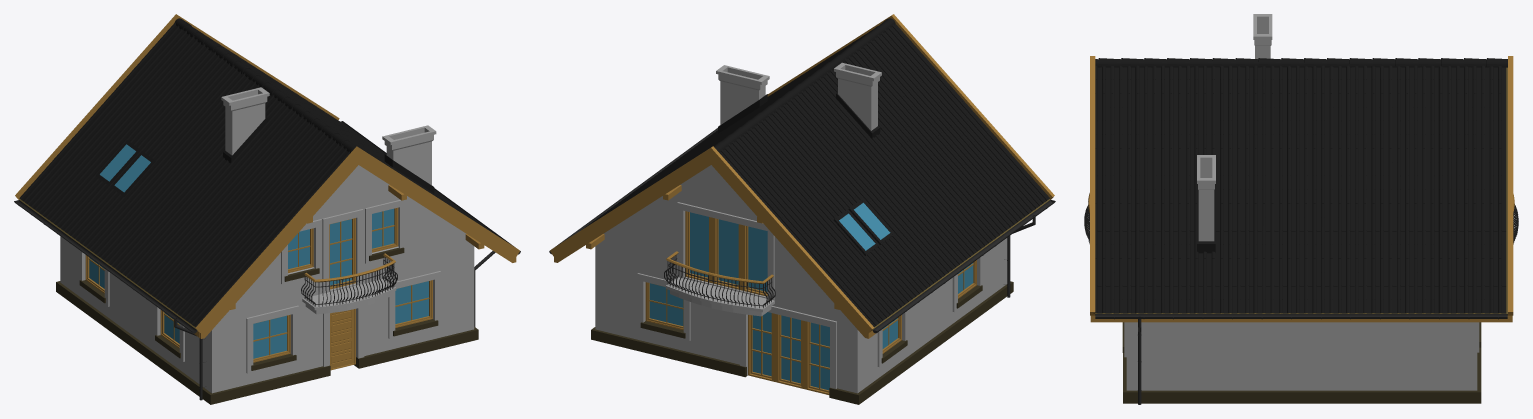
Rendered from Cyprys_House.obj.
3 renders of one model, left to right at view 1: azimuth 30°, elevation 25°; view 2: azimuth 150°, elevation 25°; view 3: azimuth 270°, elevation 25°, orthographic. The views are drawn at different scales.
Visible parts, largest first — view 1: roof_roof_metal_dark_brown, walls_walls_plaster_light_brown, boards_boards_wood_brown, cover_window_cover_window_plaster_sand, windows_windows_glass_window, foundation_foundation_foundation_brown_brick, chimneys_chimneys_plaster_light_brown, windows_windows_wood_brown, gutters_gutters_metal_grey, parapets_parapets_foundation_brown_brick, balcony_balcony_plaster_light_brown, doors_doors_wood_brown (+4 smaller); view 2: roof_roof_metal_dark_brown, walls_walls_plaster_light_brown, windows_windows_glass_window, boards_boards_wood_brown, windows_windows_wood_brown, cover_window_cover_window_plaster_sand, foundation_foundation_foundation_brown_brick, chimneys_chimneys_plaster_light_brown, gutters_gutters_metal_grey, balcony_balcony_plaster_light_brown, barrels_barrels_metal_grey, window_roof_window_roof_glass_window (+3 smaller); view 3: roof_roof_metal_dark_brown, walls_walls_plaster_light_brown, foundation_foundation_foundation_brown_brick, boards_boards_wood_brown, gutters_gutters_metal_grey, chimneys_chimneys_plaster_light_brown, roof_support_roof_support_wood_balls_brown, chimneys_chimneys_metal_dark_brown.
Boxes of the visible parts, left/top/right/bottom form: roof_roof_metal_dark_brown: left=19, top=18, right=487, bottom=327; walls_walls_plaster_light_brown: left=60, top=165, right=474, bottom=393; boards_boards_wood_brown: left=15, top=14, right=519, bottom=338; cover_window_cover_window_plaster_sand: left=78, top=199, right=441, bottom=373; windows_windows_glass_window: left=89, top=208, right=428, bottom=358; foundation_foundation_foundation_brown_brick: left=56, top=281, right=478, bottom=404; chimneys_chimneys_plaster_light_brown: left=221, top=87, right=436, bottom=185; windows_windows_wood_brown: left=85, top=207, right=432, bottom=362; gutters_gutters_metal_grey: left=14, top=121, right=520, bottom=400; parapets_parapets_foundation_brown_brick: left=79, top=247, right=438, bottom=370; balcony_balcony_plaster_light_brown: left=302, top=279, right=396, bottom=314; doors_doors_wood_brown: left=330, top=309, right=355, bottom=370; roof_roof_metal_dark_brown: left=582, top=18, right=1050, bottom=326; walls_walls_plaster_light_brown: left=595, top=165, right=1007, bottom=393; windows_windows_glass_window: left=649, top=212, right=973, bottom=390; boards_boards_wood_brown: left=550, top=14, right=1054, bottom=338; windows_windows_wood_brown: left=645, top=211, right=976, bottom=394; cover_window_cover_window_plaster_sand: left=637, top=202, right=983, bottom=388; foundation_foundation_foundation_brown_brick: left=591, top=281, right=1013, bottom=404; chimneys_chimneys_plaster_light_brown: left=716, top=62, right=881, bottom=130; gutters_gutters_metal_grey: left=549, top=128, right=1055, bottom=333; balcony_balcony_plaster_light_brown: left=665, top=277, right=774, bottom=316; barrels_barrels_metal_grey: left=664, top=255, right=775, bottom=308; window_roof_window_roof_glass_window: left=839, top=202, right=890, bottom=250; roof_roof_metal_dark_brown: left=1093, top=58, right=1507, bottom=313; walls_walls_plaster_light_brown: left=1126, top=322, right=1477, bottom=390; foundation_foundation_foundation_brown_brick: left=1123, top=347, right=1481, bottom=403; boards_boards_wood_brown: left=1090, top=56, right=1513, bottom=322; gutters_gutters_metal_grey: left=1095, top=314, right=1507, bottom=404; chimneys_chimneys_plaster_light_brown: left=1197, top=14, right=1272, bottom=241; roof_support_roof_support_wood_balls_brown: left=1095, top=67, right=1507, bottom=315; chimneys_chimneys_metal_dark_brown: left=1197, top=184, right=1215, bottom=253.
Size of the model in its own units: 11.91 by 8.38 by 11.77.
